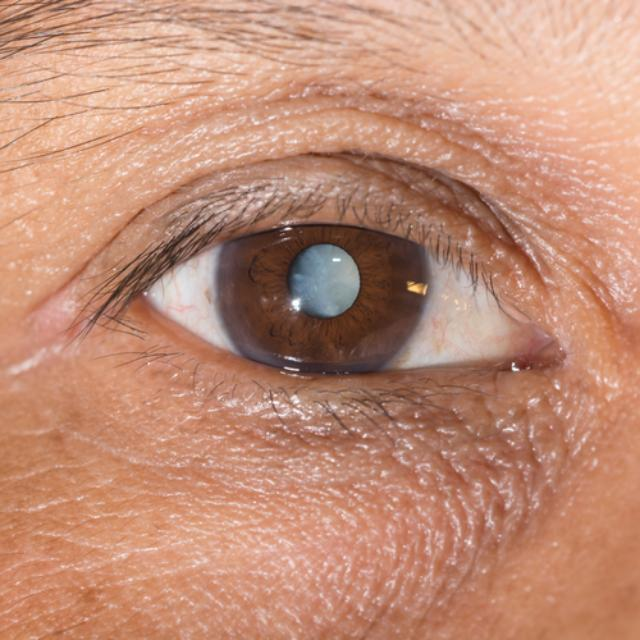eye: (216, 222, 434, 374)
